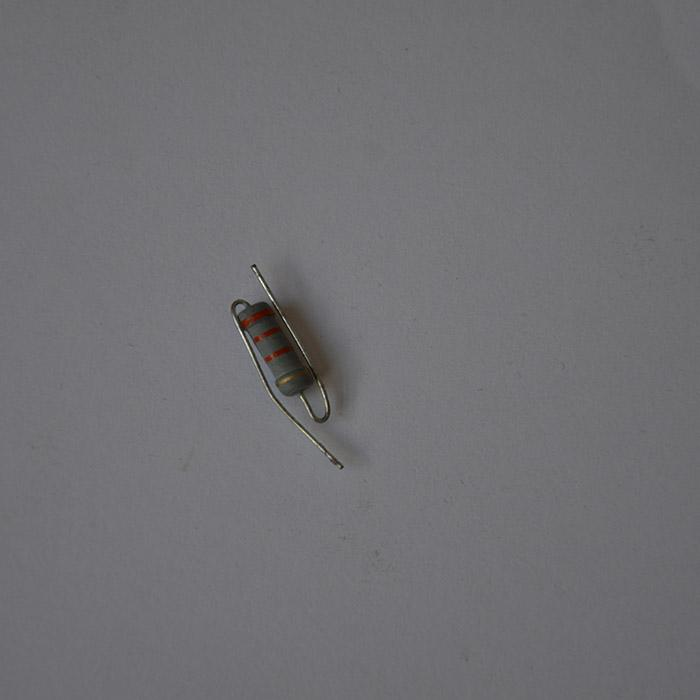resistor: (234, 300, 316, 399)
